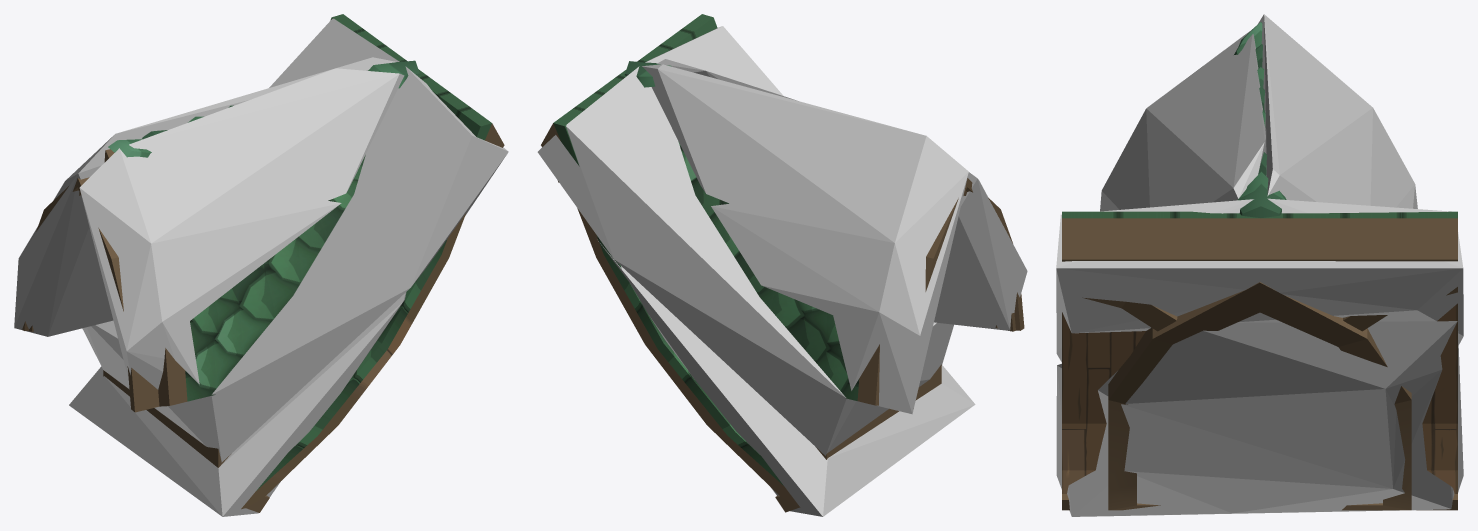
File: SM_Bld_Roof_Concave_Window_01.fbx
The picture shows the model from 3 angles, left to right: view 1: azimuth 30°, elevation 25°; view 2: azimuth 150°, elevation 25°; view 3: azimuth 270°, elevation 25°; orthographic projection. The views are drawn at different scales.
Parts seen in each view (by area): view 1: SM_Bld_Roof_Concave_Window_01_ConvexHulls, SM_Bld_Roof_Concave_Window_01; view 2: SM_Bld_Roof_Concave_Window_01_ConvexHulls, SM_Bld_Roof_Concave_Window_01; view 3: SM_Bld_Roof_Concave_Window_01_ConvexHulls, SM_Bld_Roof_Concave_Window_01.
Boxes of the visible parts, <box> form: SM_Bld_Roof_Concave_Window_01_ConvexHulls: <box>14,18,508,516</box>; SM_Bld_Roof_Concave_Window_01: <box>22,14,504,512</box>; SM_Bld_Roof_Concave_Window_01_ConvexHulls: <box>537,26,1027,516</box>; SM_Bld_Roof_Concave_Window_01: <box>541,14,1024,512</box>; SM_Bld_Roof_Concave_Window_01_ConvexHulls: <box>1056,14,1463,516</box>; SM_Bld_Roof_Concave_Window_01: <box>1062,22,1457,510</box>.
Bounding box in the file's own units: 349 × 257 × 329.
4 materials, 3 textured.
